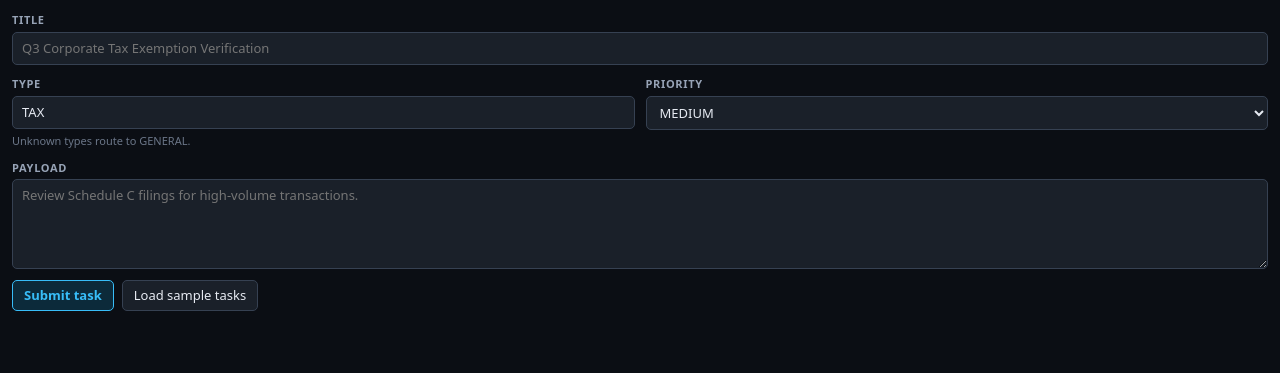
Test: TaskForm - submission › submits the draft and reports where the task was routed
This screenshot has width=1280, height=373.
Type "Quarterly review" into the field labelled "Title" at x=640, y=48, box [12, 32, 1268, 65]
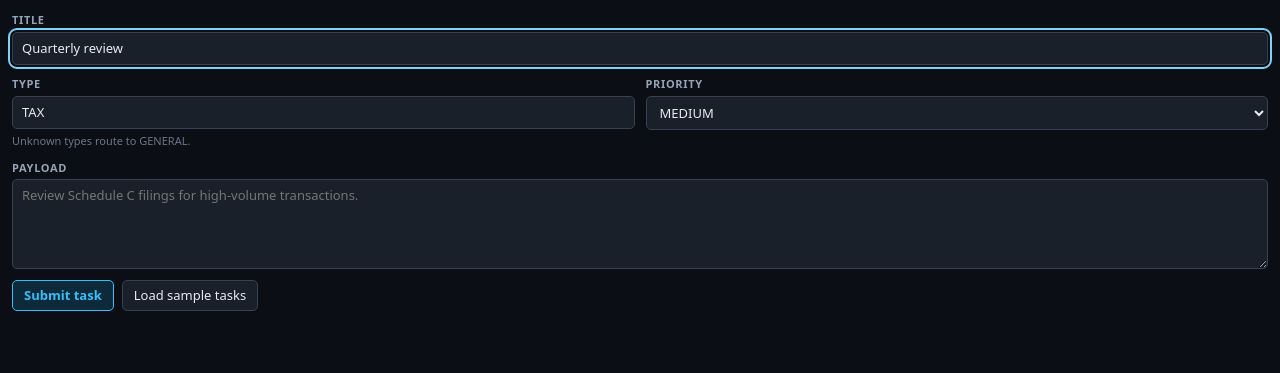
Type "Check the ledger." into the text box labelled "Payload" at x=640, y=224, box [12, 179, 1268, 269]
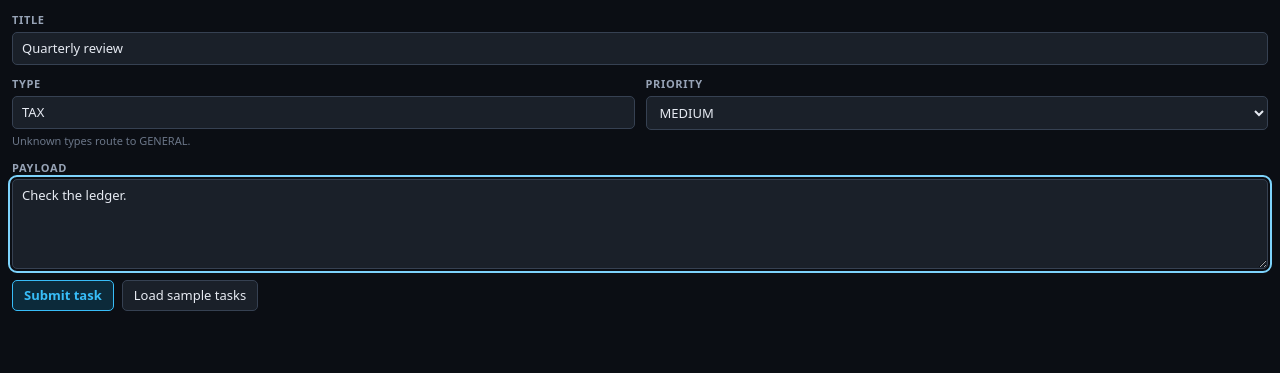
Click the button "Submit task" at x=63, y=295, box [12, 280, 114, 311]
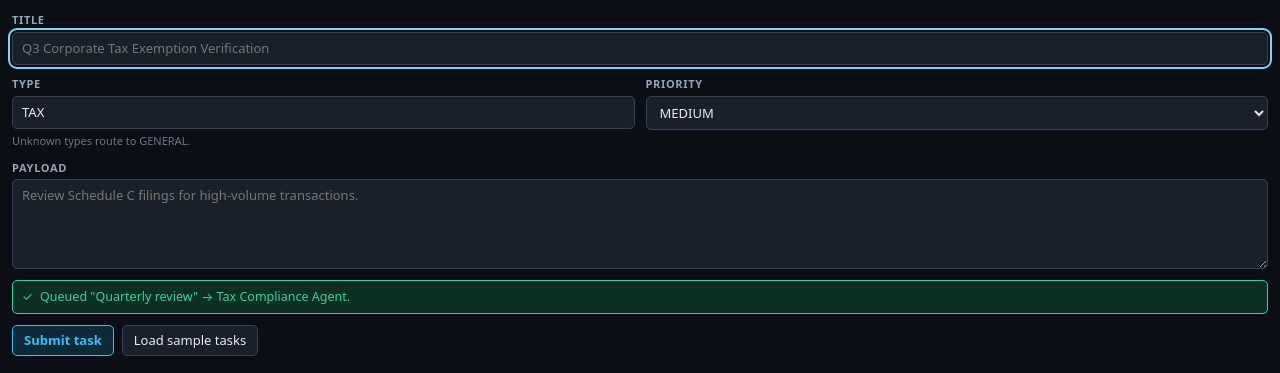
Now the message shows "Tax Compliance Agent", box [40, 288, 350, 305]
